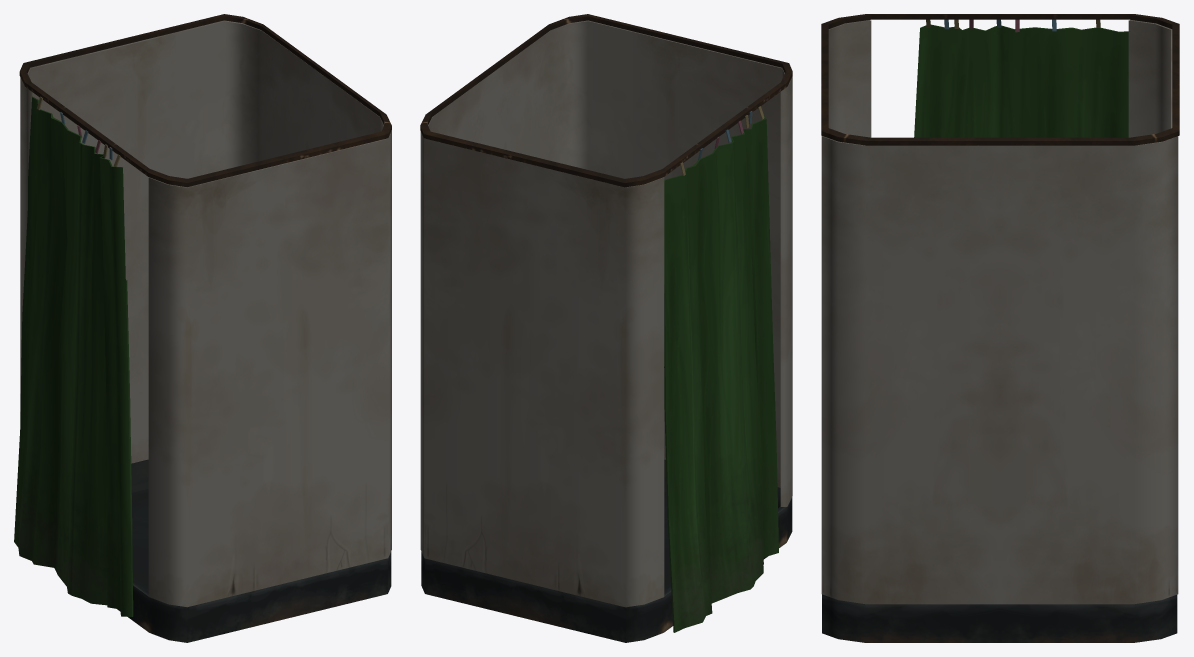
The model's file is Shower.fbx.
3 renders of one model, left to right at view 1: azimuth 30°, elevation 25°; view 2: azimuth 150°, elevation 25°; view 3: azimuth 270°, elevation 25°, orthographic. The views are drawn at different scales.
Parts seen in each view (by area): view 1: polySurface11, pCube11, polySurface13, polySurface12; view 2: polySurface11, pCube11, polySurface13, polySurface12; view 3: polySurface11, pCube11, polySurface13, polySurface12.
Part boxes in pixels (left/top/right/bottom): polySurface11: left=20, top=20, right=391, bottom=607; pCube11: left=14, top=96, right=133, bottom=616; polySurface13: left=117, top=459, right=391, bottom=642; polySurface12: left=19, top=14, right=391, bottom=187; polySurface11: left=420, top=20, right=792, bottom=607; pCube11: left=664, top=115, right=778, bottom=632; polySurface13: left=421, top=459, right=792, bottom=642; polySurface12: left=420, top=14, right=792, bottom=187; polySurface11: left=821, top=20, right=1178, bottom=604; pCube11: left=914, top=24, right=1130, bottom=137; polySurface13: left=822, top=594, right=1177, bottom=642; polySurface12: left=821, top=14, right=1179, bottom=145.
Bounding box in the file's own units: 17.15 × 29 × 18.69.
